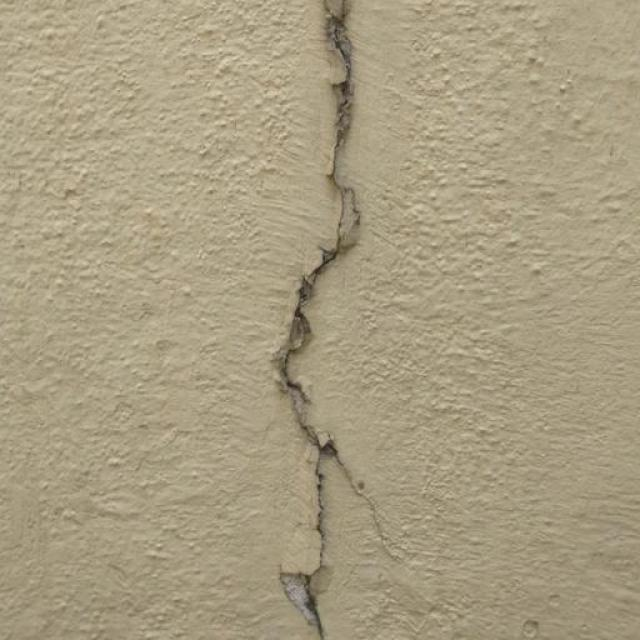crack: (212, 0, 427, 639)
crack_mold_damp_spalling_cor: (212, 0, 427, 639)
